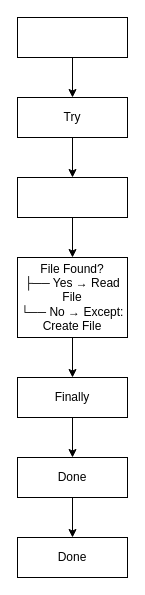
This 145x595 diagram has some shape labels left out. Each missing label, with the centre of its shape:
"Open / Read File" goes at pixel 72 197.
"start" goes at pixel 72 37.
